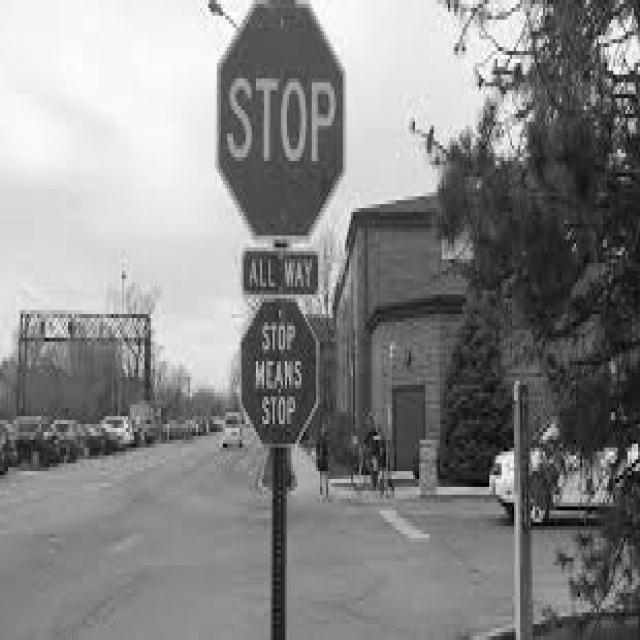stop sign: (213, 3, 346, 296)
